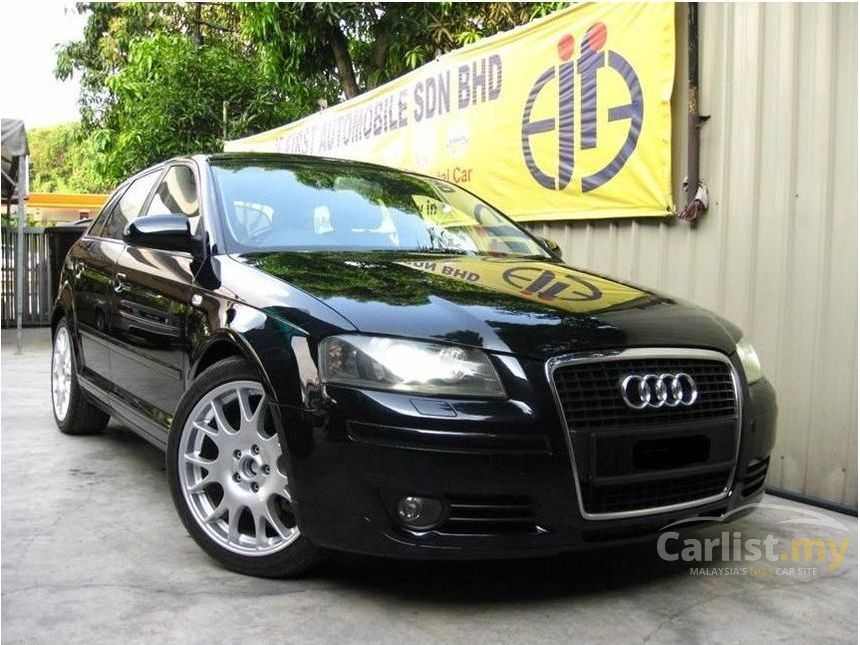audi: (611, 369, 710, 417)
